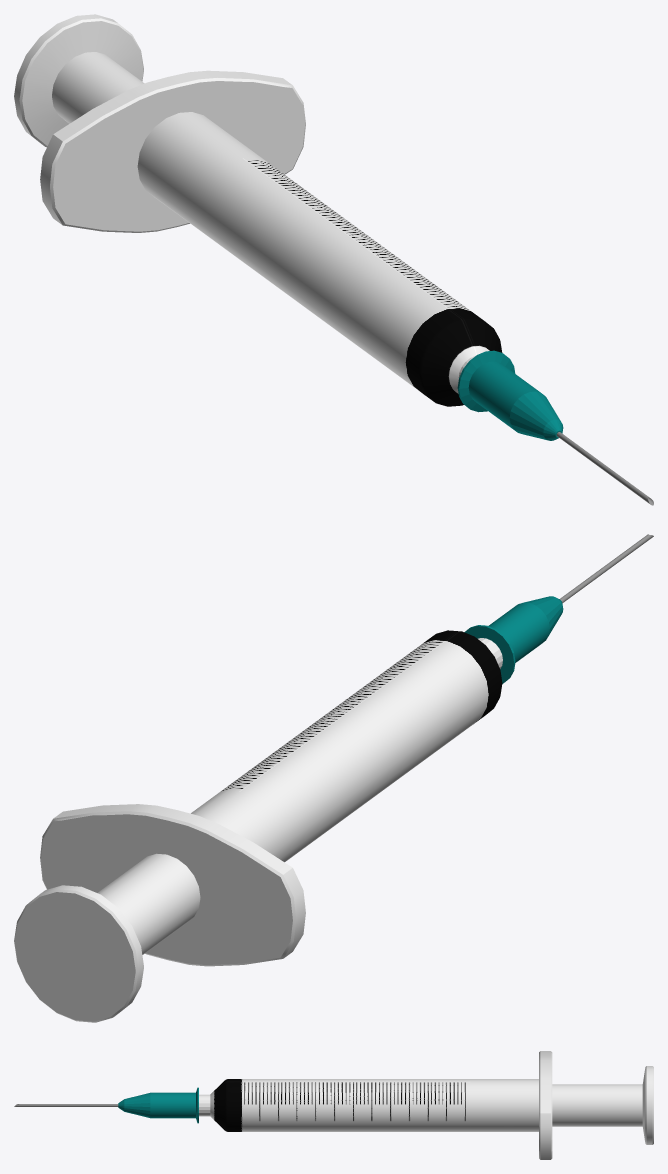
The model's file is Needle.fbx.
3 renders of one model, top to bottom at view 1: azimuth 30°, elevation 25°; view 2: azimuth 150°, elevation 25°; view 3: azimuth 270°, elevation 25°, orthographic. The views are drawn at different scales.
Parts seen in each view (by area): view 1: pCylinder1, pCylinder2, pCylinder3; view 2: pCylinder1, pCylinder2, pCylinder3; view 3: pCylinder1, pCylinder2, pCylinder3, pCylinder4.
Part boxes in pixels (box(x1,y1,x2,y2)): pCylinder1: box(40, 70, 502, 406); pCylinder2: box(14, 14, 144, 147); pCylinder3: box(457, 350, 563, 440); pCylinder1: box(40, 630, 502, 966); pCylinder2: box(14, 853, 200, 1022); pCylinder3: box(464, 596, 563, 683); pCylinder1: box(199, 1051, 552, 1159); pCylinder2: box(552, 1066, 653, 1144); pCylinder3: box(118, 1087, 198, 1123); pCylinder4: box(14, 1104, 118, 1106).
Size of the model in its own units: 6.17 by 3.29 by 24.11.
3 materials, 1 textured.
